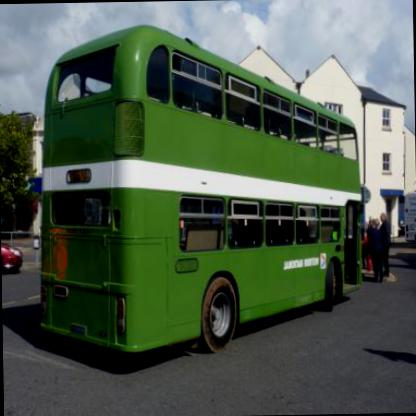bus: (34, 20, 368, 358), (400, 186, 416, 244)
